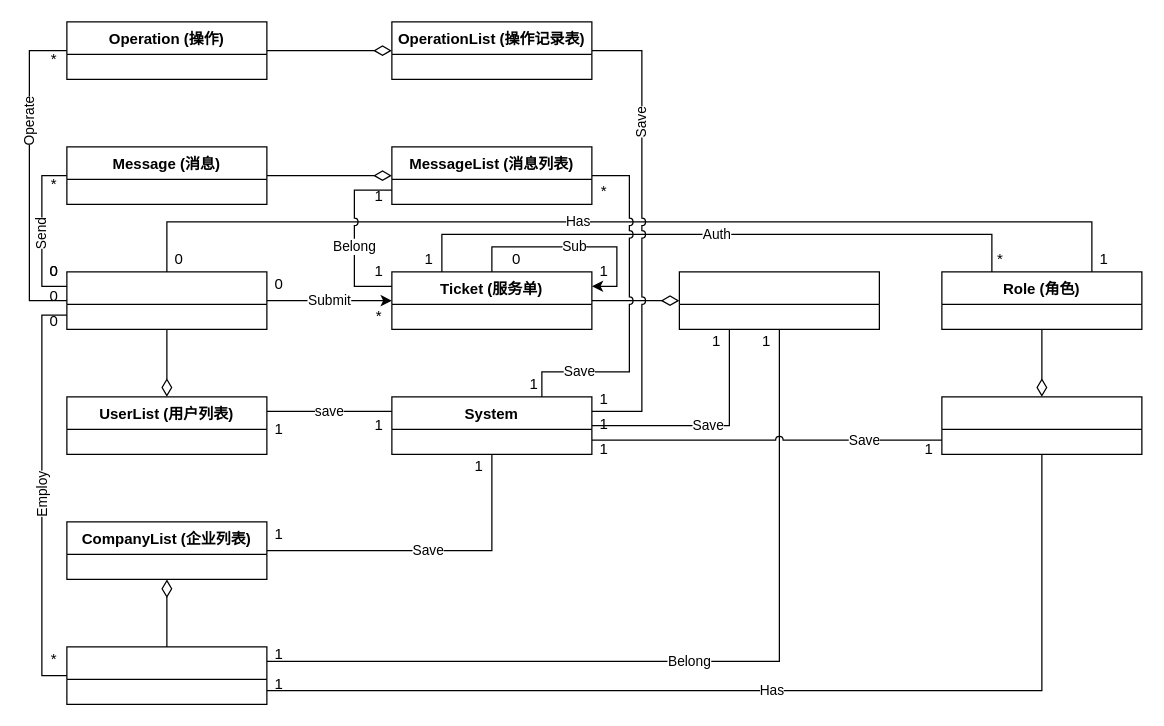
Some shapes in this 1164 by 726 pixel diagram are drawn without their labels. Here are the shapes that lost their labels. From the top down, the centre of each, then its label:
At point (166, 300): "User (用户)".
At point (778, 300): "TicketList (服务单表)".
At point (1041, 425): "RoleList (角色列表)".
At point (166, 675): "Company (企业)".
